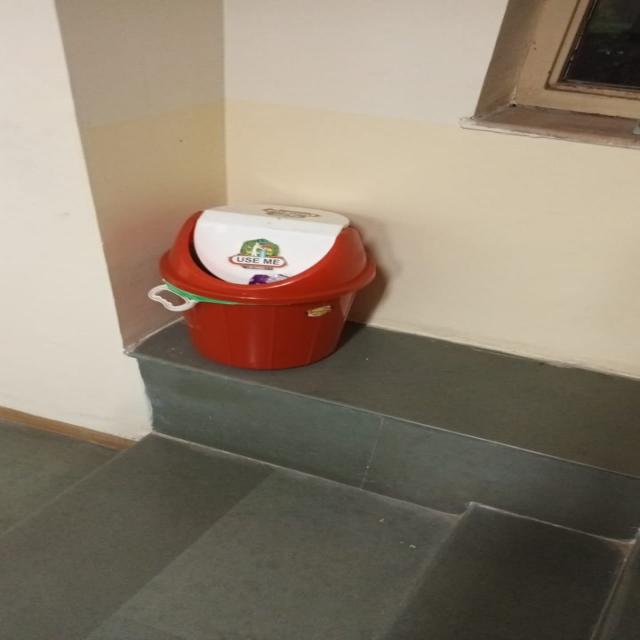Others: (143, 189, 387, 375)
